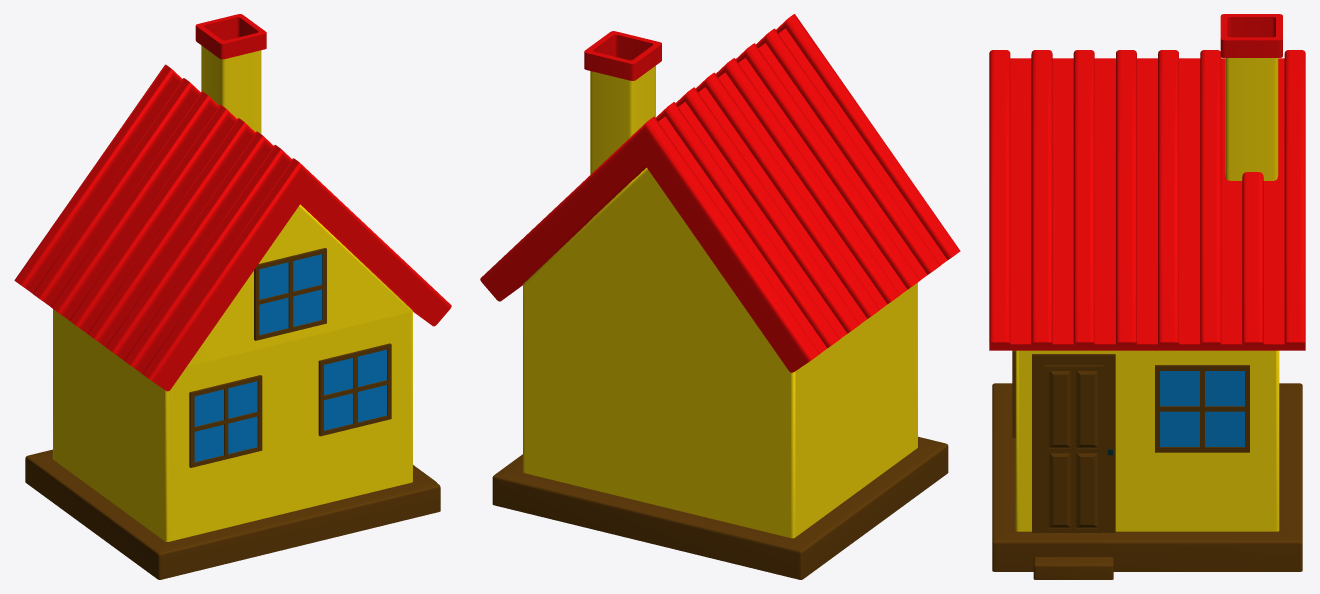
3 renders of one model, left to right at view 1: azimuth 30°, elevation 25°; view 2: azimuth 150°, elevation 25°; view 3: azimuth 270°, elevation 25°, orthographic. The views are drawn at different scales.
Visible parts, largest first — view 1: Box020; view 2: Box020; view 3: Box020.
Boxes of the visible parts, x1,y1,x2,y2 form: Box020: (14, 14, 451, 579); Box020: (480, 14, 960, 579); Box020: (989, 14, 1305, 579).
Size of the model in its own units: 338 by 446 by 261.
